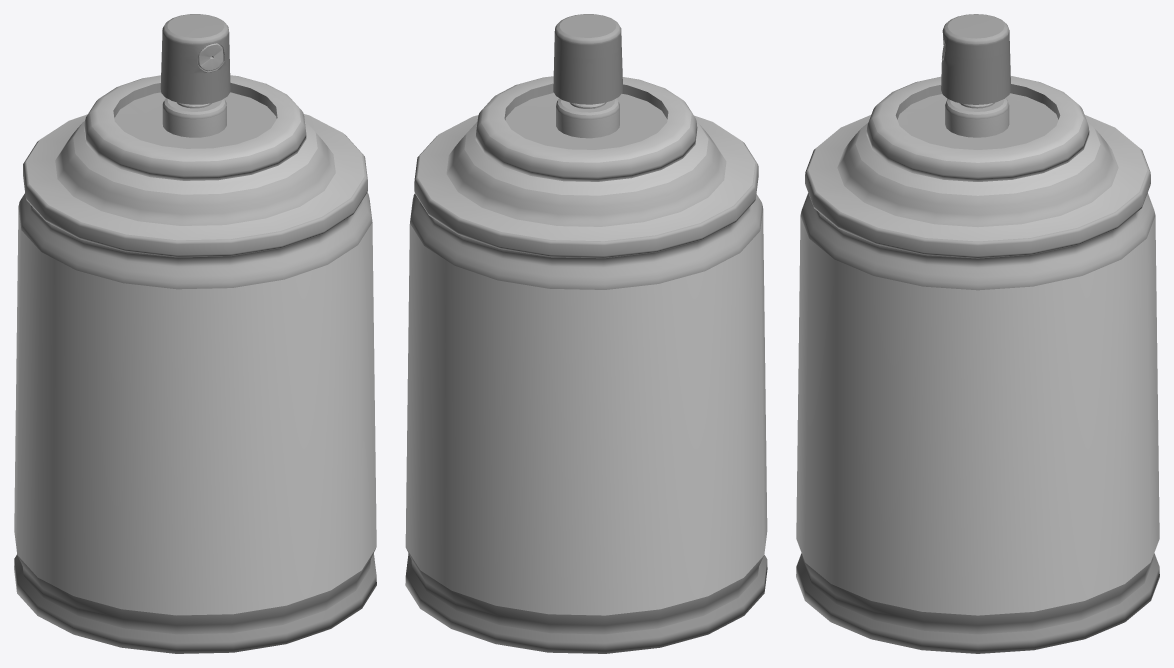
File: HSpray.fbx
3 views of the same model, side by side, from view 1: azimuth 30°, elevation 25°; view 2: azimuth 150°, elevation 25°; view 3: azimuth 270°, elevation 25° (orthographic).
Parts seen in each view (by area): view 1: HSpray; view 2: HSpray; view 3: HSpray.
Boxes of the visible parts, box(x1,y1,x2,y2) form: HSpray: box(14, 14, 376, 653); HSpray: box(405, 14, 767, 653); HSpray: box(796, 14, 1159, 653).
Size of the model in its own units: 7.49 by 12.64 by 7.49.
Materials: 2 (1 with a texture image).
